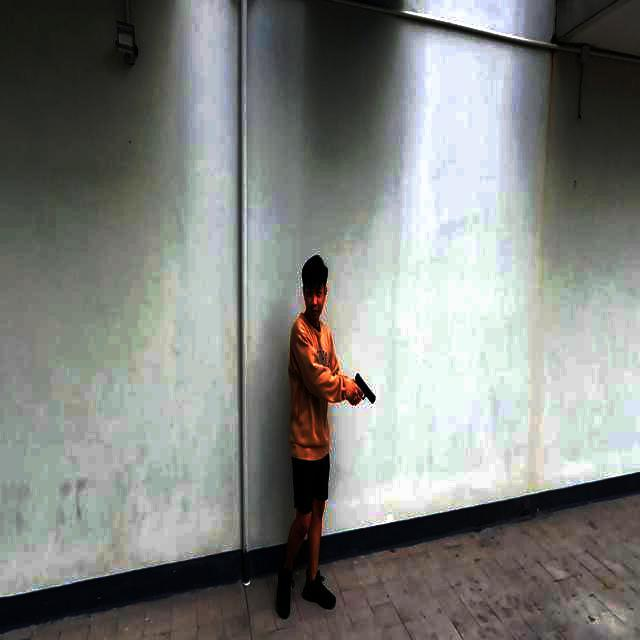Gun: (345, 367, 384, 421)
